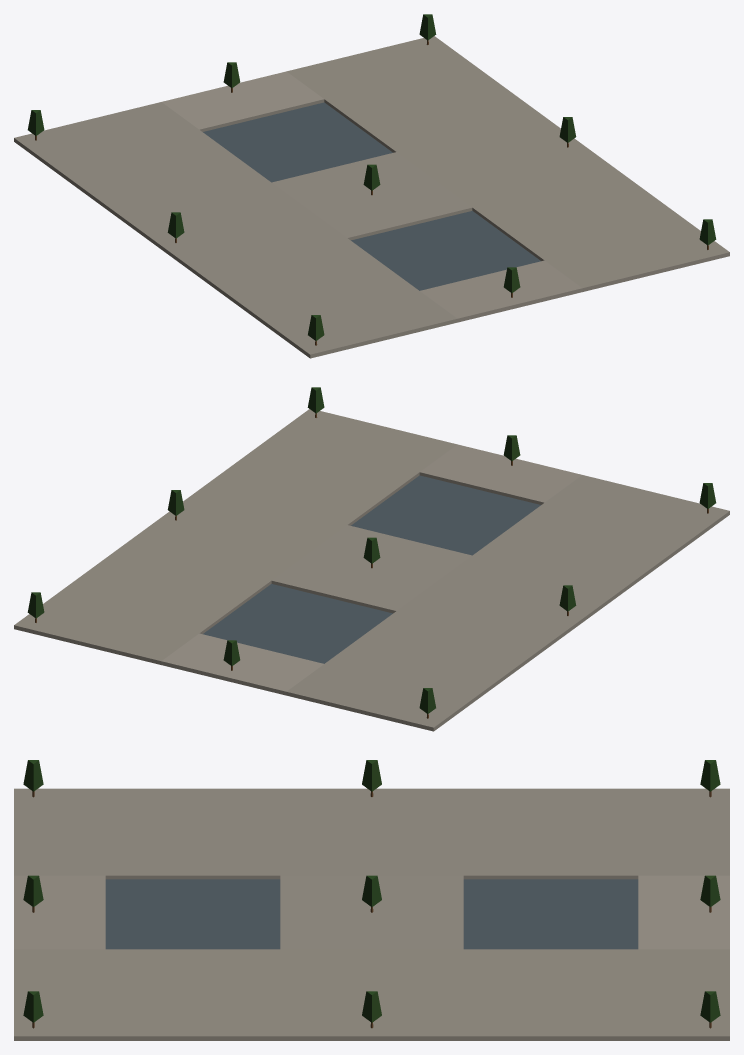
The picture shows the model from 3 angles, top to bottom: view 1: azimuth 30°, elevation 25°; view 2: azimuth 150°, elevation 25°; view 3: azimuth 270°, elevation 25°; orthographic projection. The views are drawn at different scales.
Parts seen in each view (by area): view 1: september-11-memorial-lod3; view 2: september-11-memorial-lod3; view 3: september-11-memorial-lod3.
Boxes of the visible parts, left/top/right/bottom form: september-11-memorial-lod3: left=14, top=14, right=729, bottom=358; september-11-memorial-lod3: left=14, top=387, right=729, bottom=731; september-11-memorial-lod3: left=14, top=760, right=729, bottom=1040.
Bounding box in the file's own units: 180 × 13.59 × 220.
